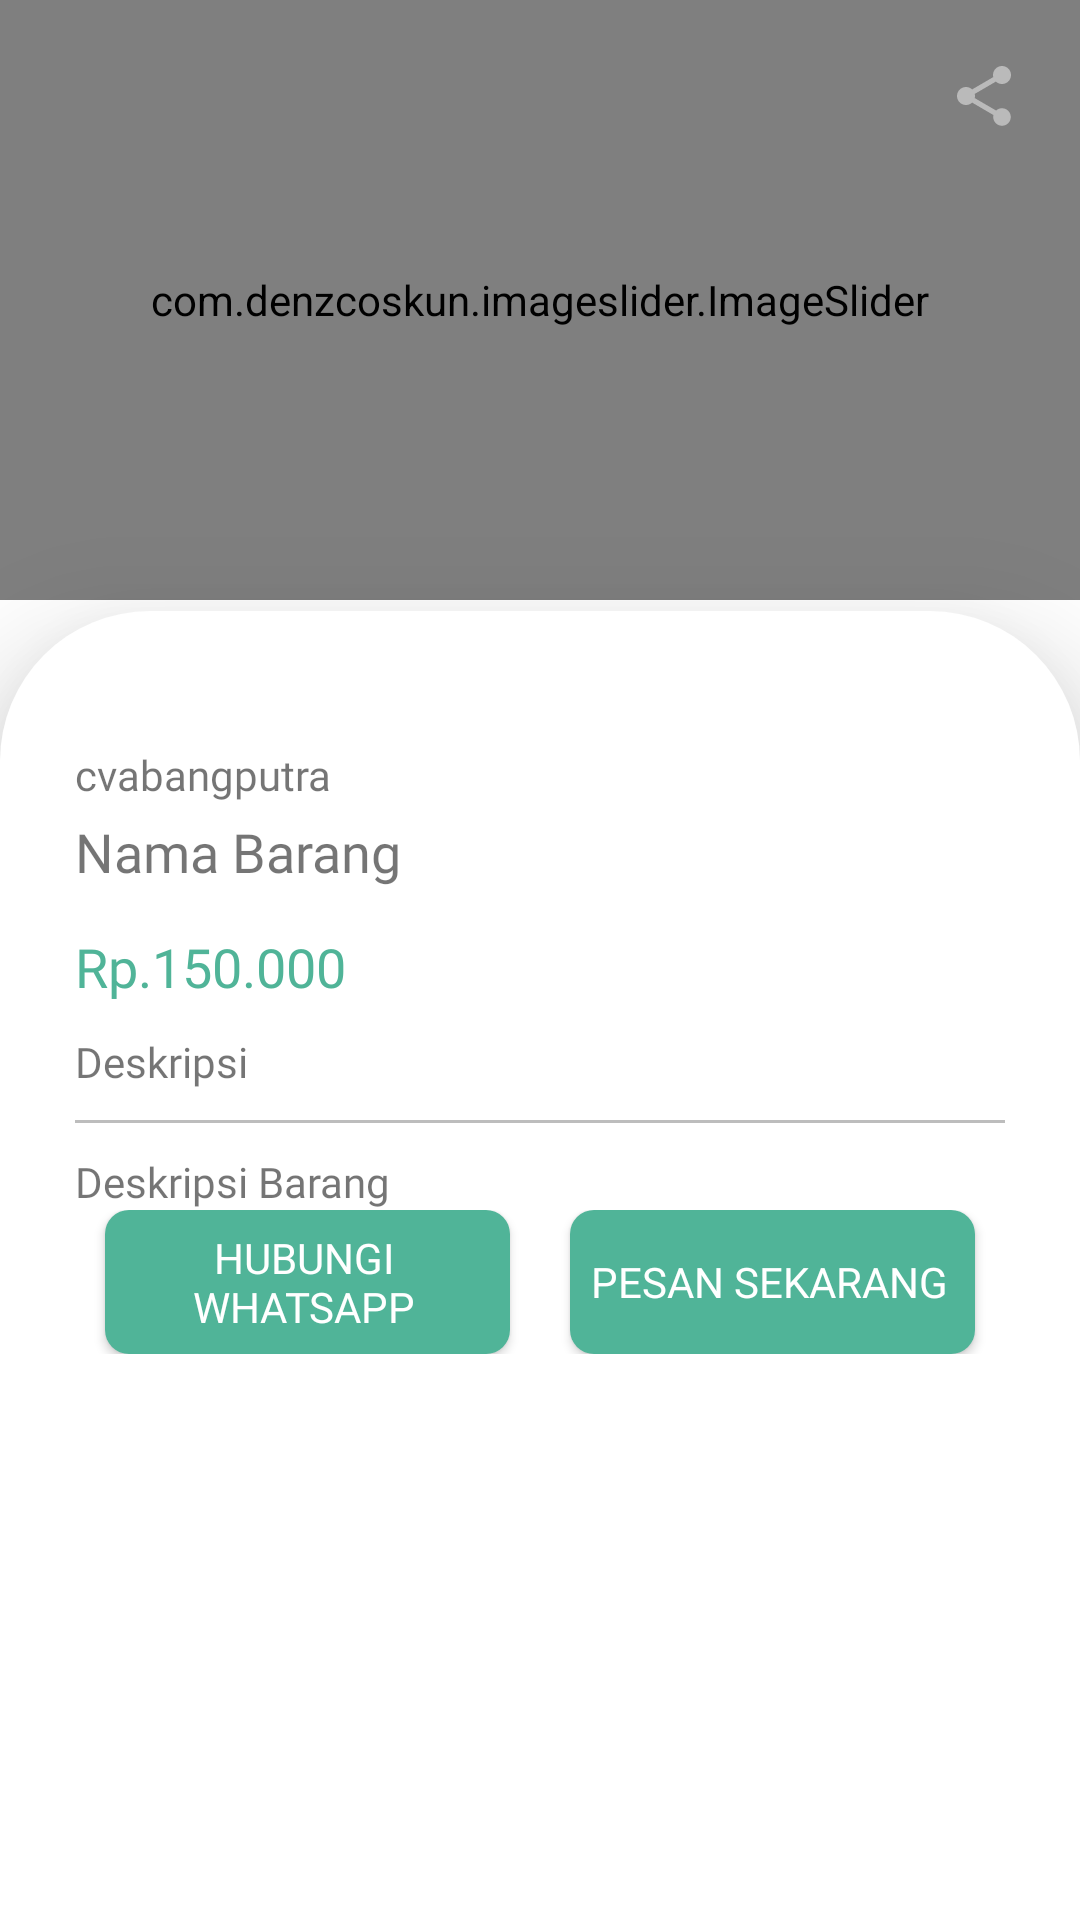

Icons on this 1080×1920 Android screen, each with the point to tap as point (x, y):
share: point (984, 96)
